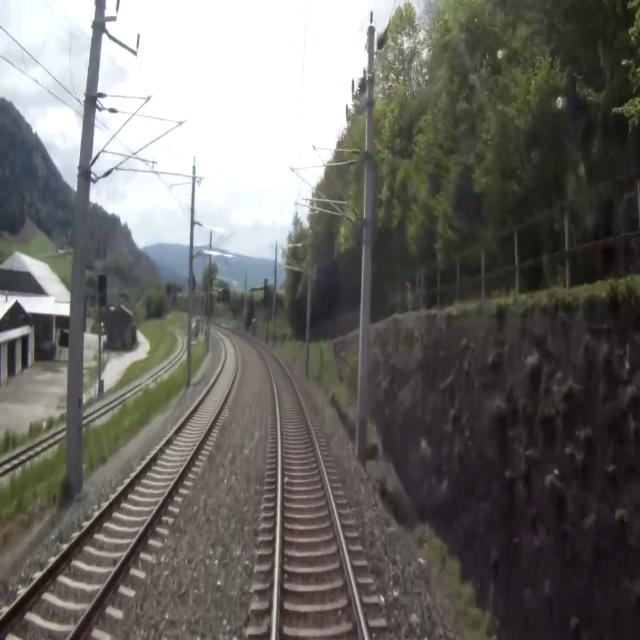rail-track: (0, 335, 235, 639), (256, 343, 364, 639), (0, 433, 61, 469)
